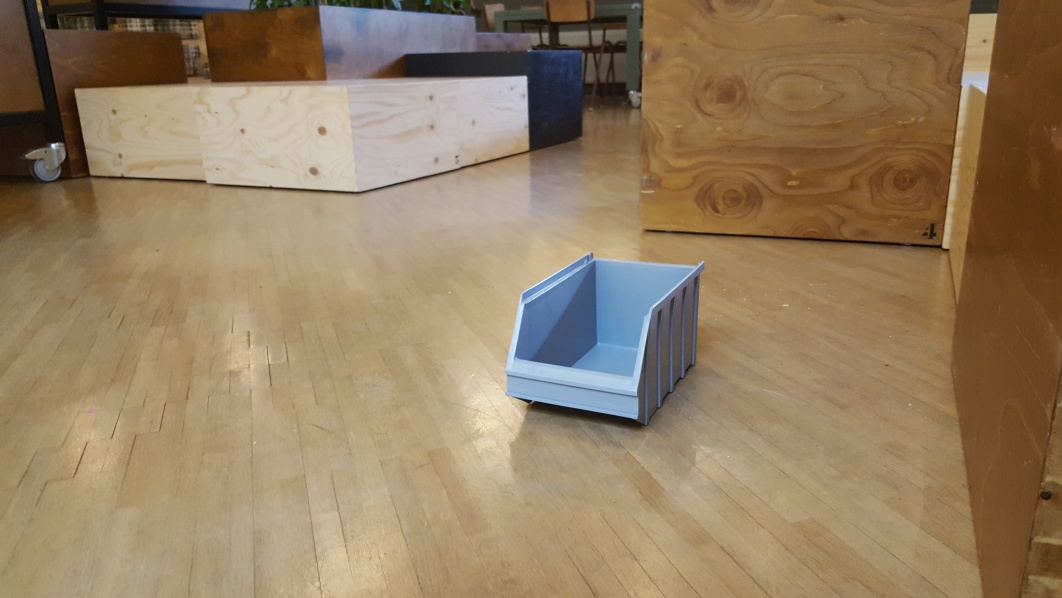tray: (502, 253, 707, 427)
